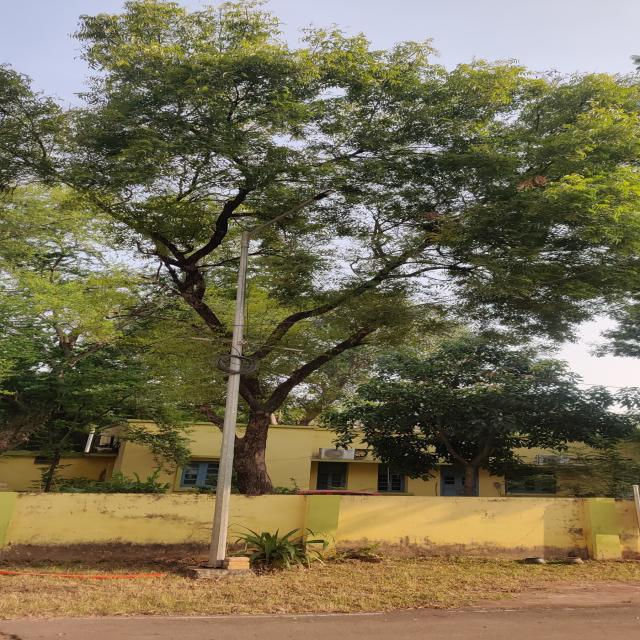Neem Tree: (76, 11, 640, 331)
